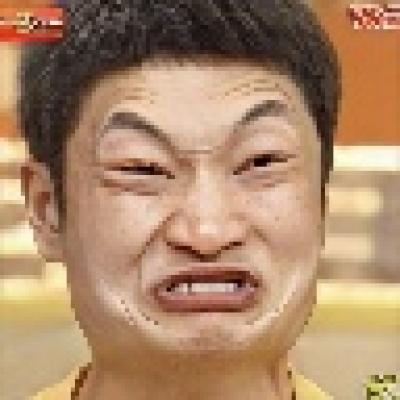angry: (65, 45, 319, 359)
